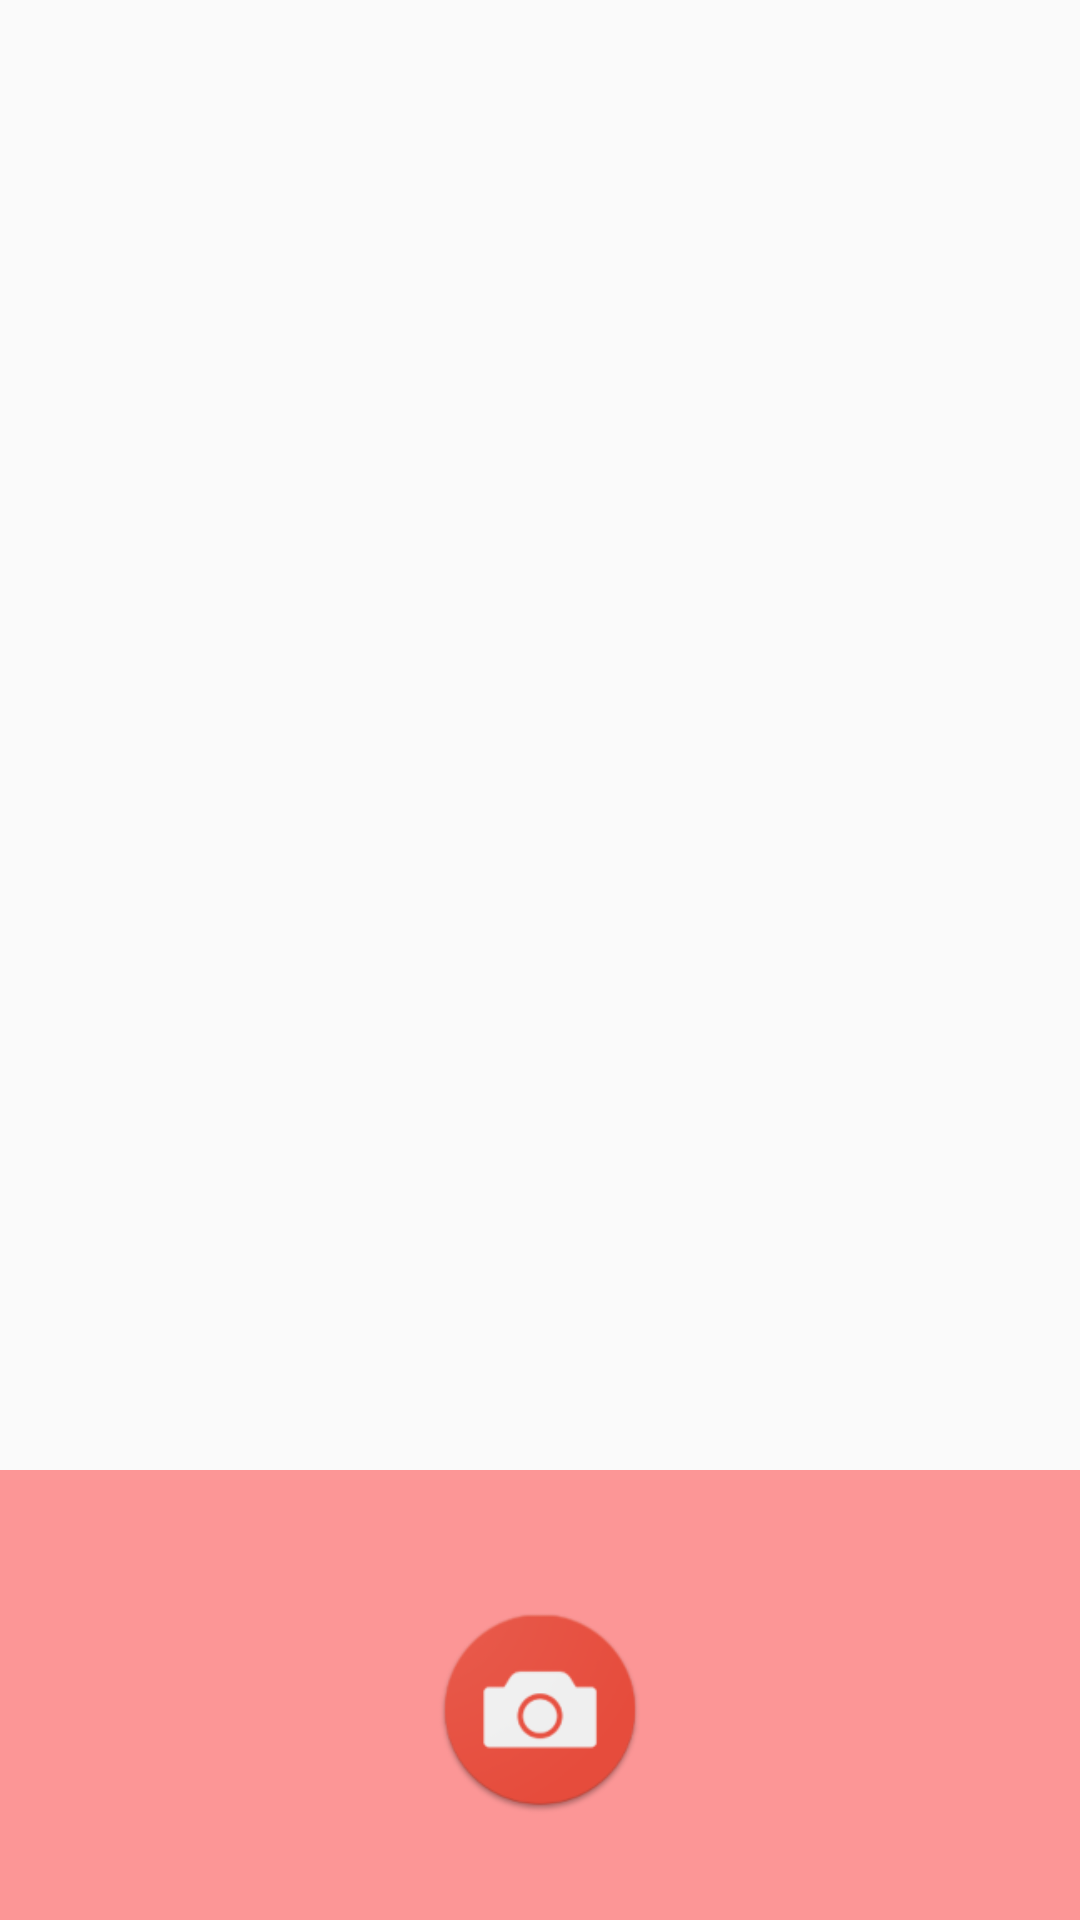

Screen size 1080 × 1920. Icon name, then its center in pixels as [x,y]:
camera capture: [539,1712]
